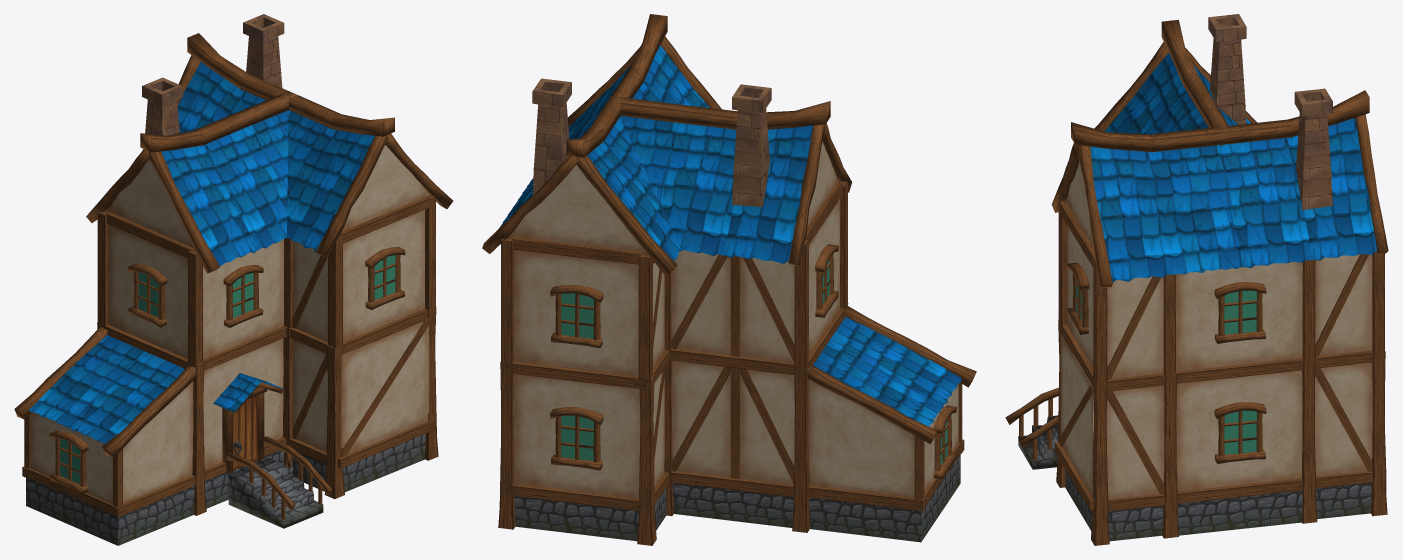
Rendered from casa1.fbx.
3 renders of one model, left to right at view 1: azimuth 30°, elevation 25°; view 2: azimuth 150°, elevation 25°; view 3: azimuth 270°, elevation 25°, orthographic. The views are drawn at different scales.
Visible parts, largest first — view 1: BH4; view 2: BH4; view 3: BH4.
Part boxes in pixels (box(x1,y1,x2,y2)): BH4: box(14, 14, 453, 545); BH4: box(482, 14, 976, 545); BH4: box(1005, 14, 1388, 545).
Bounding box in the file's own units: 681 × 632 × 535.
